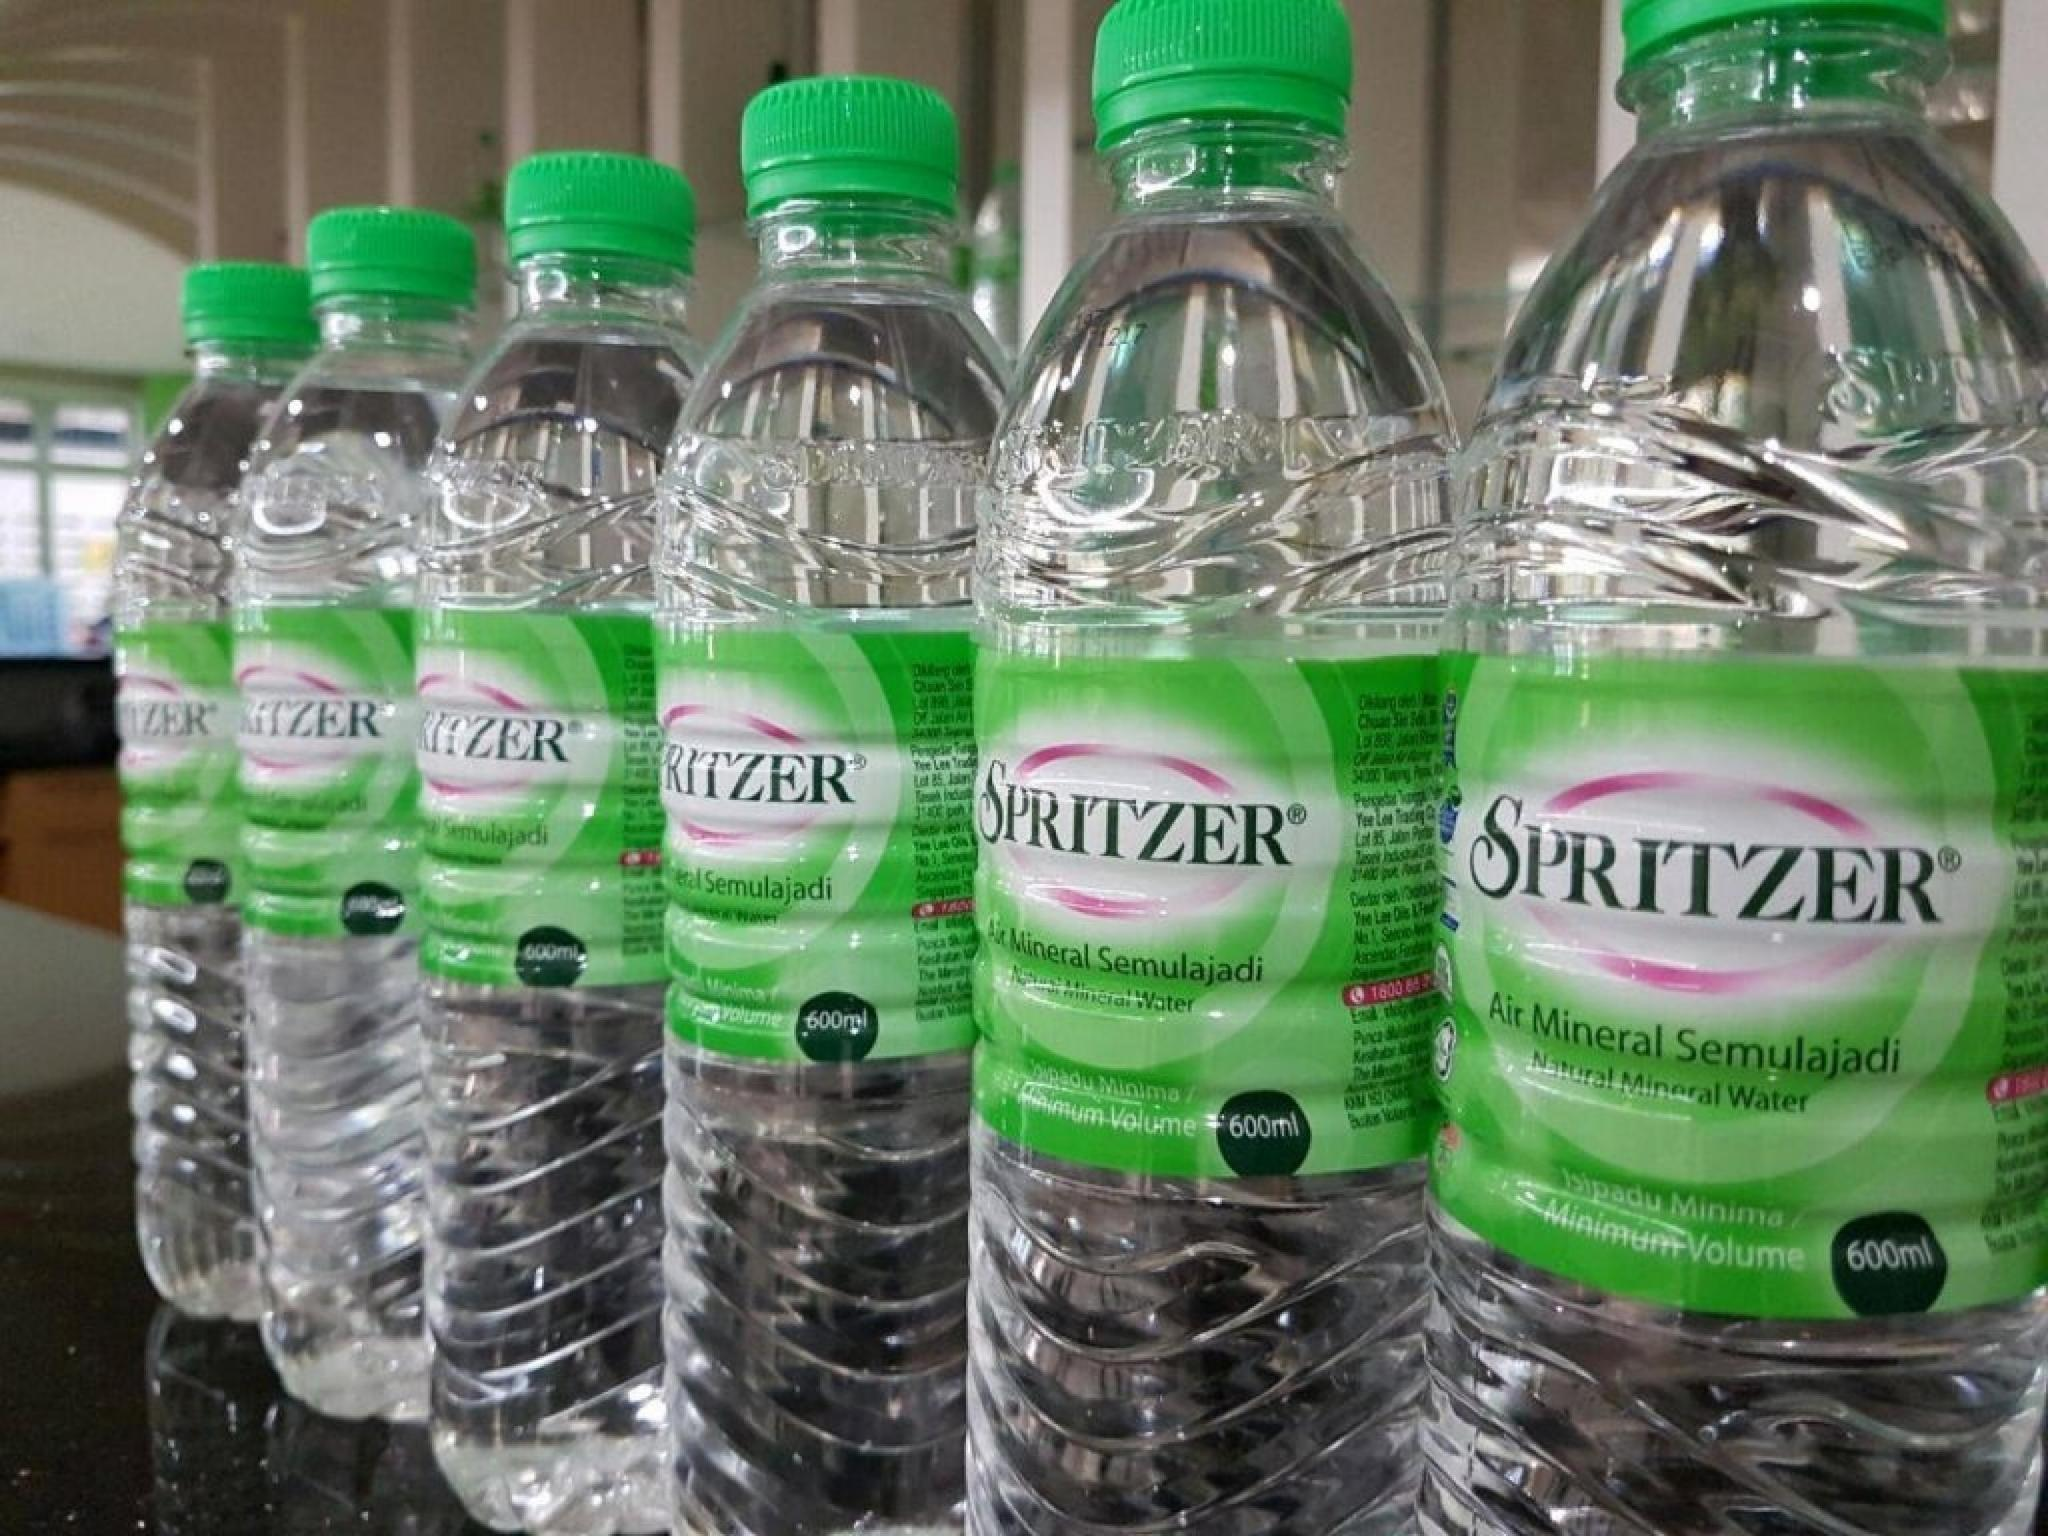plastic: (1422, 0, 2046, 1534), (968, 0, 1447, 1534), (656, 77, 1003, 1534), (116, 208, 469, 1507)
